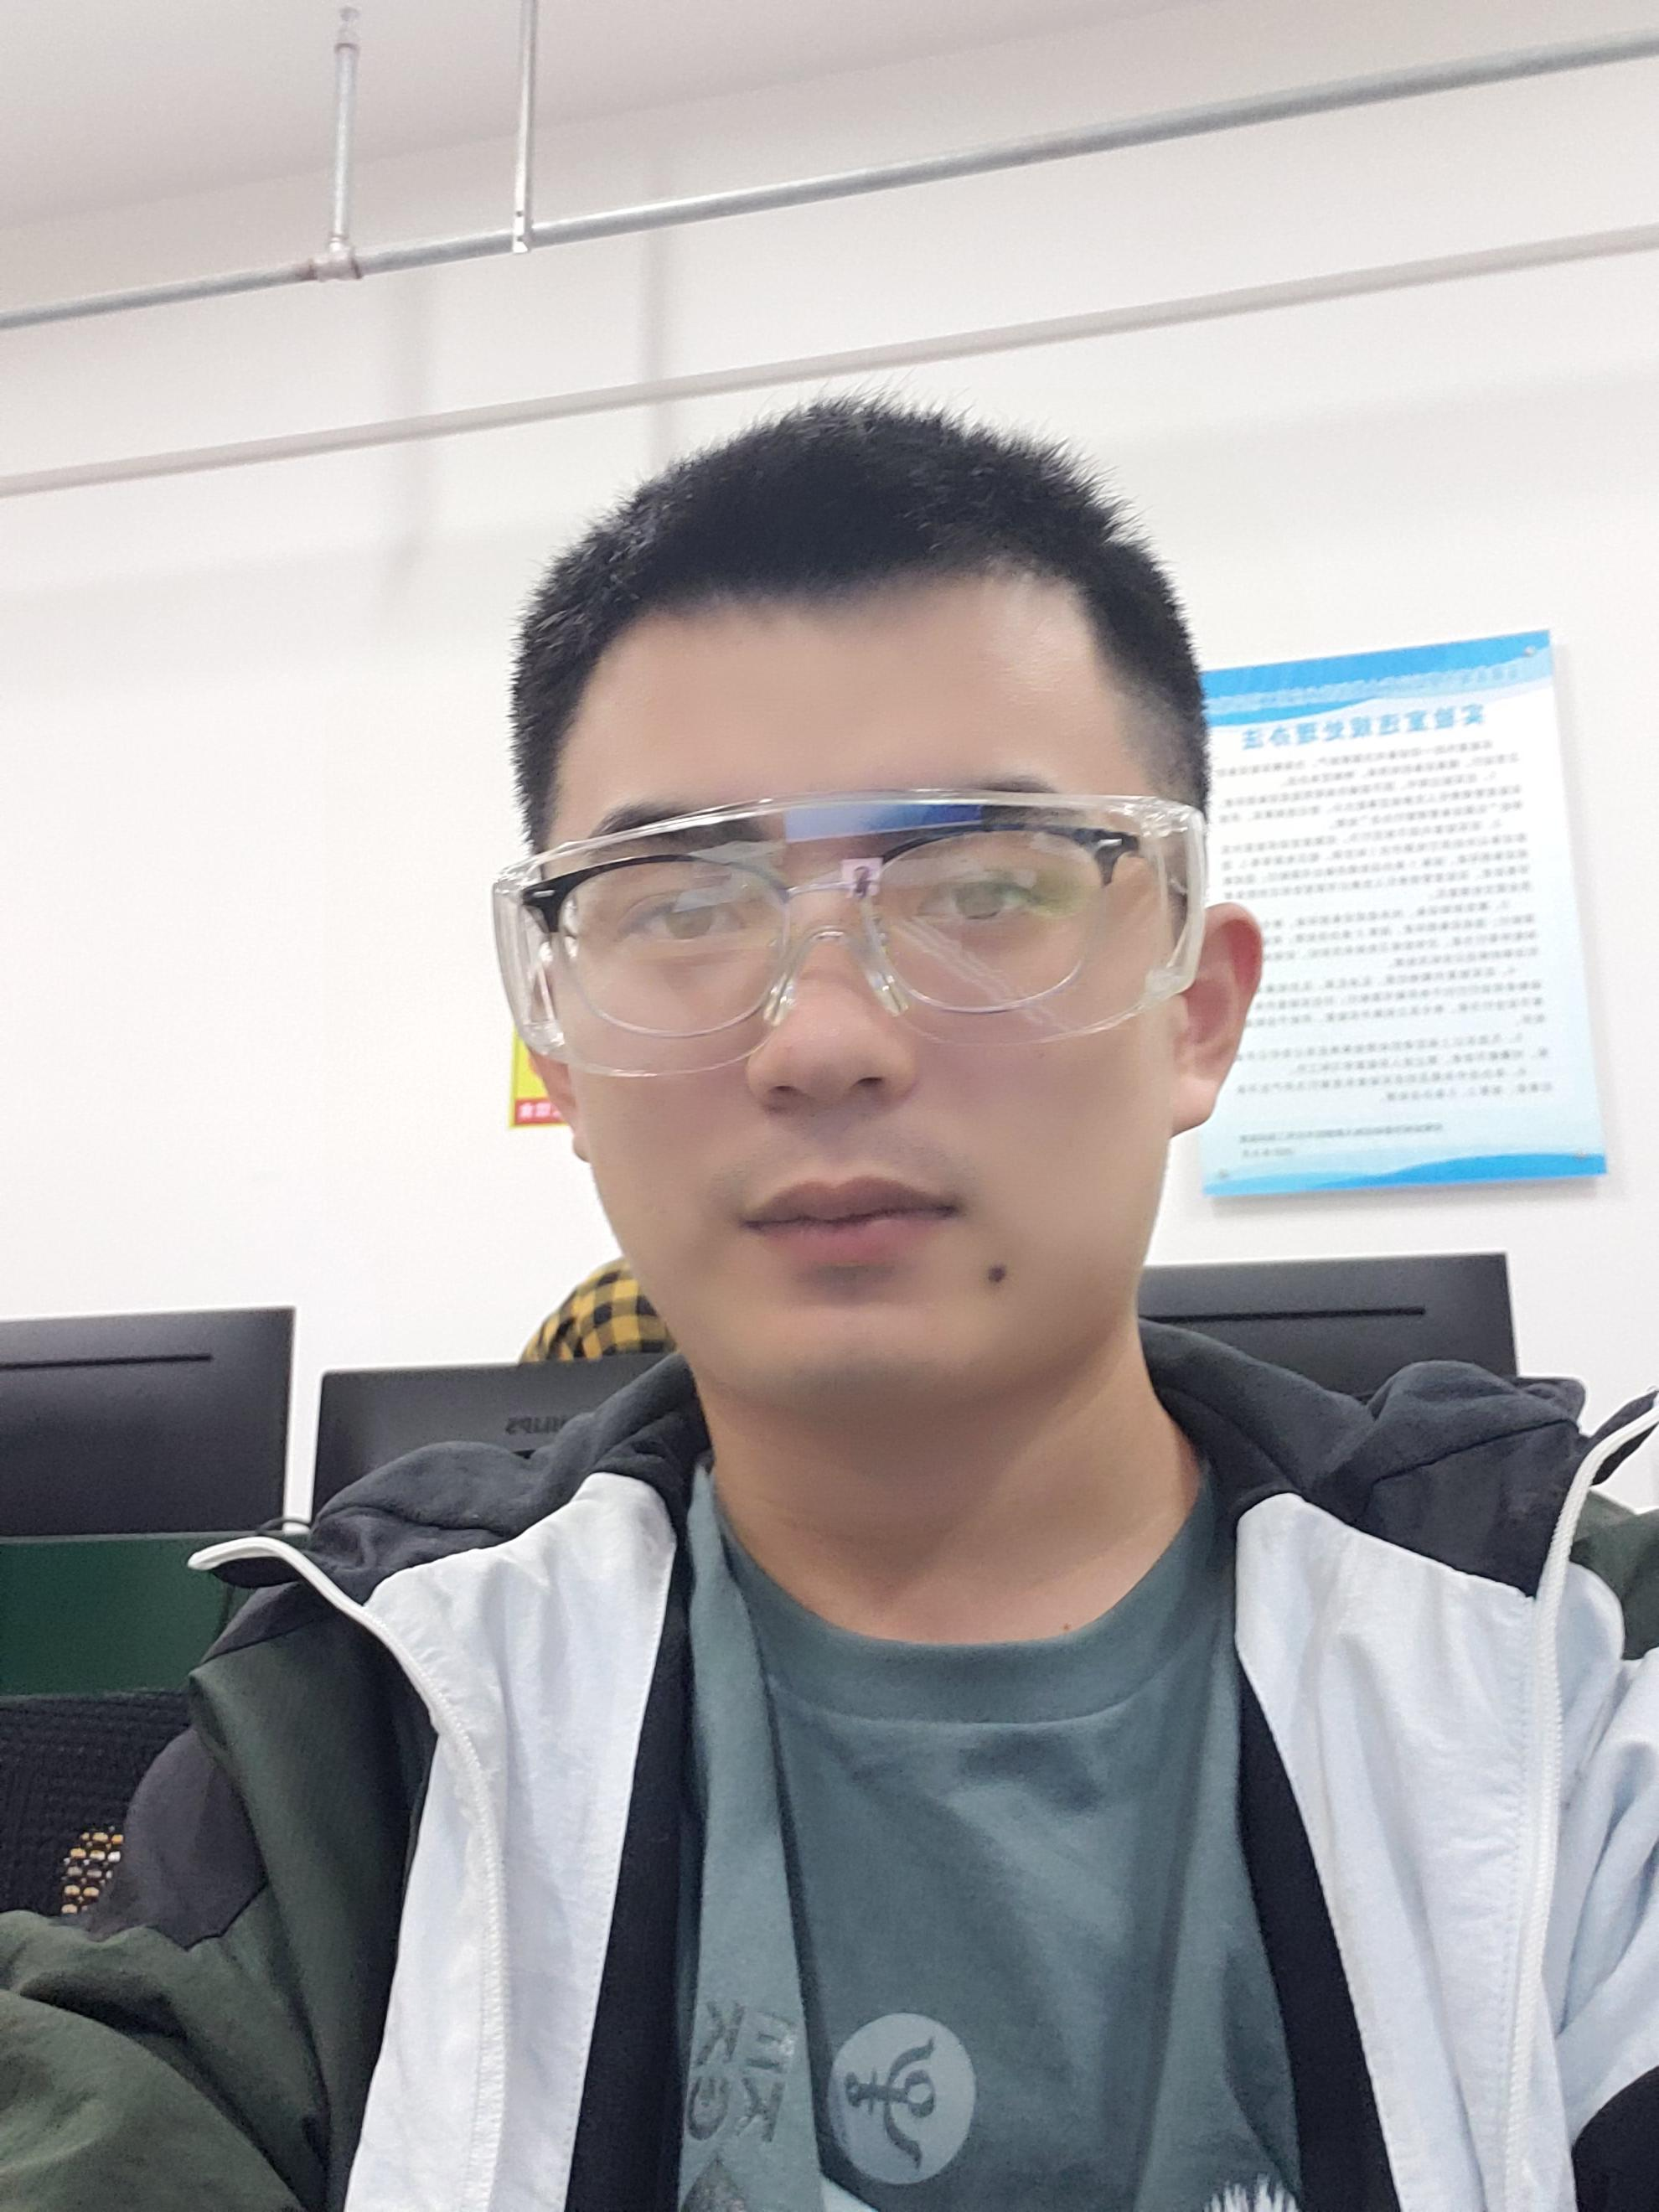glasses: (446, 779, 1241, 1050)
